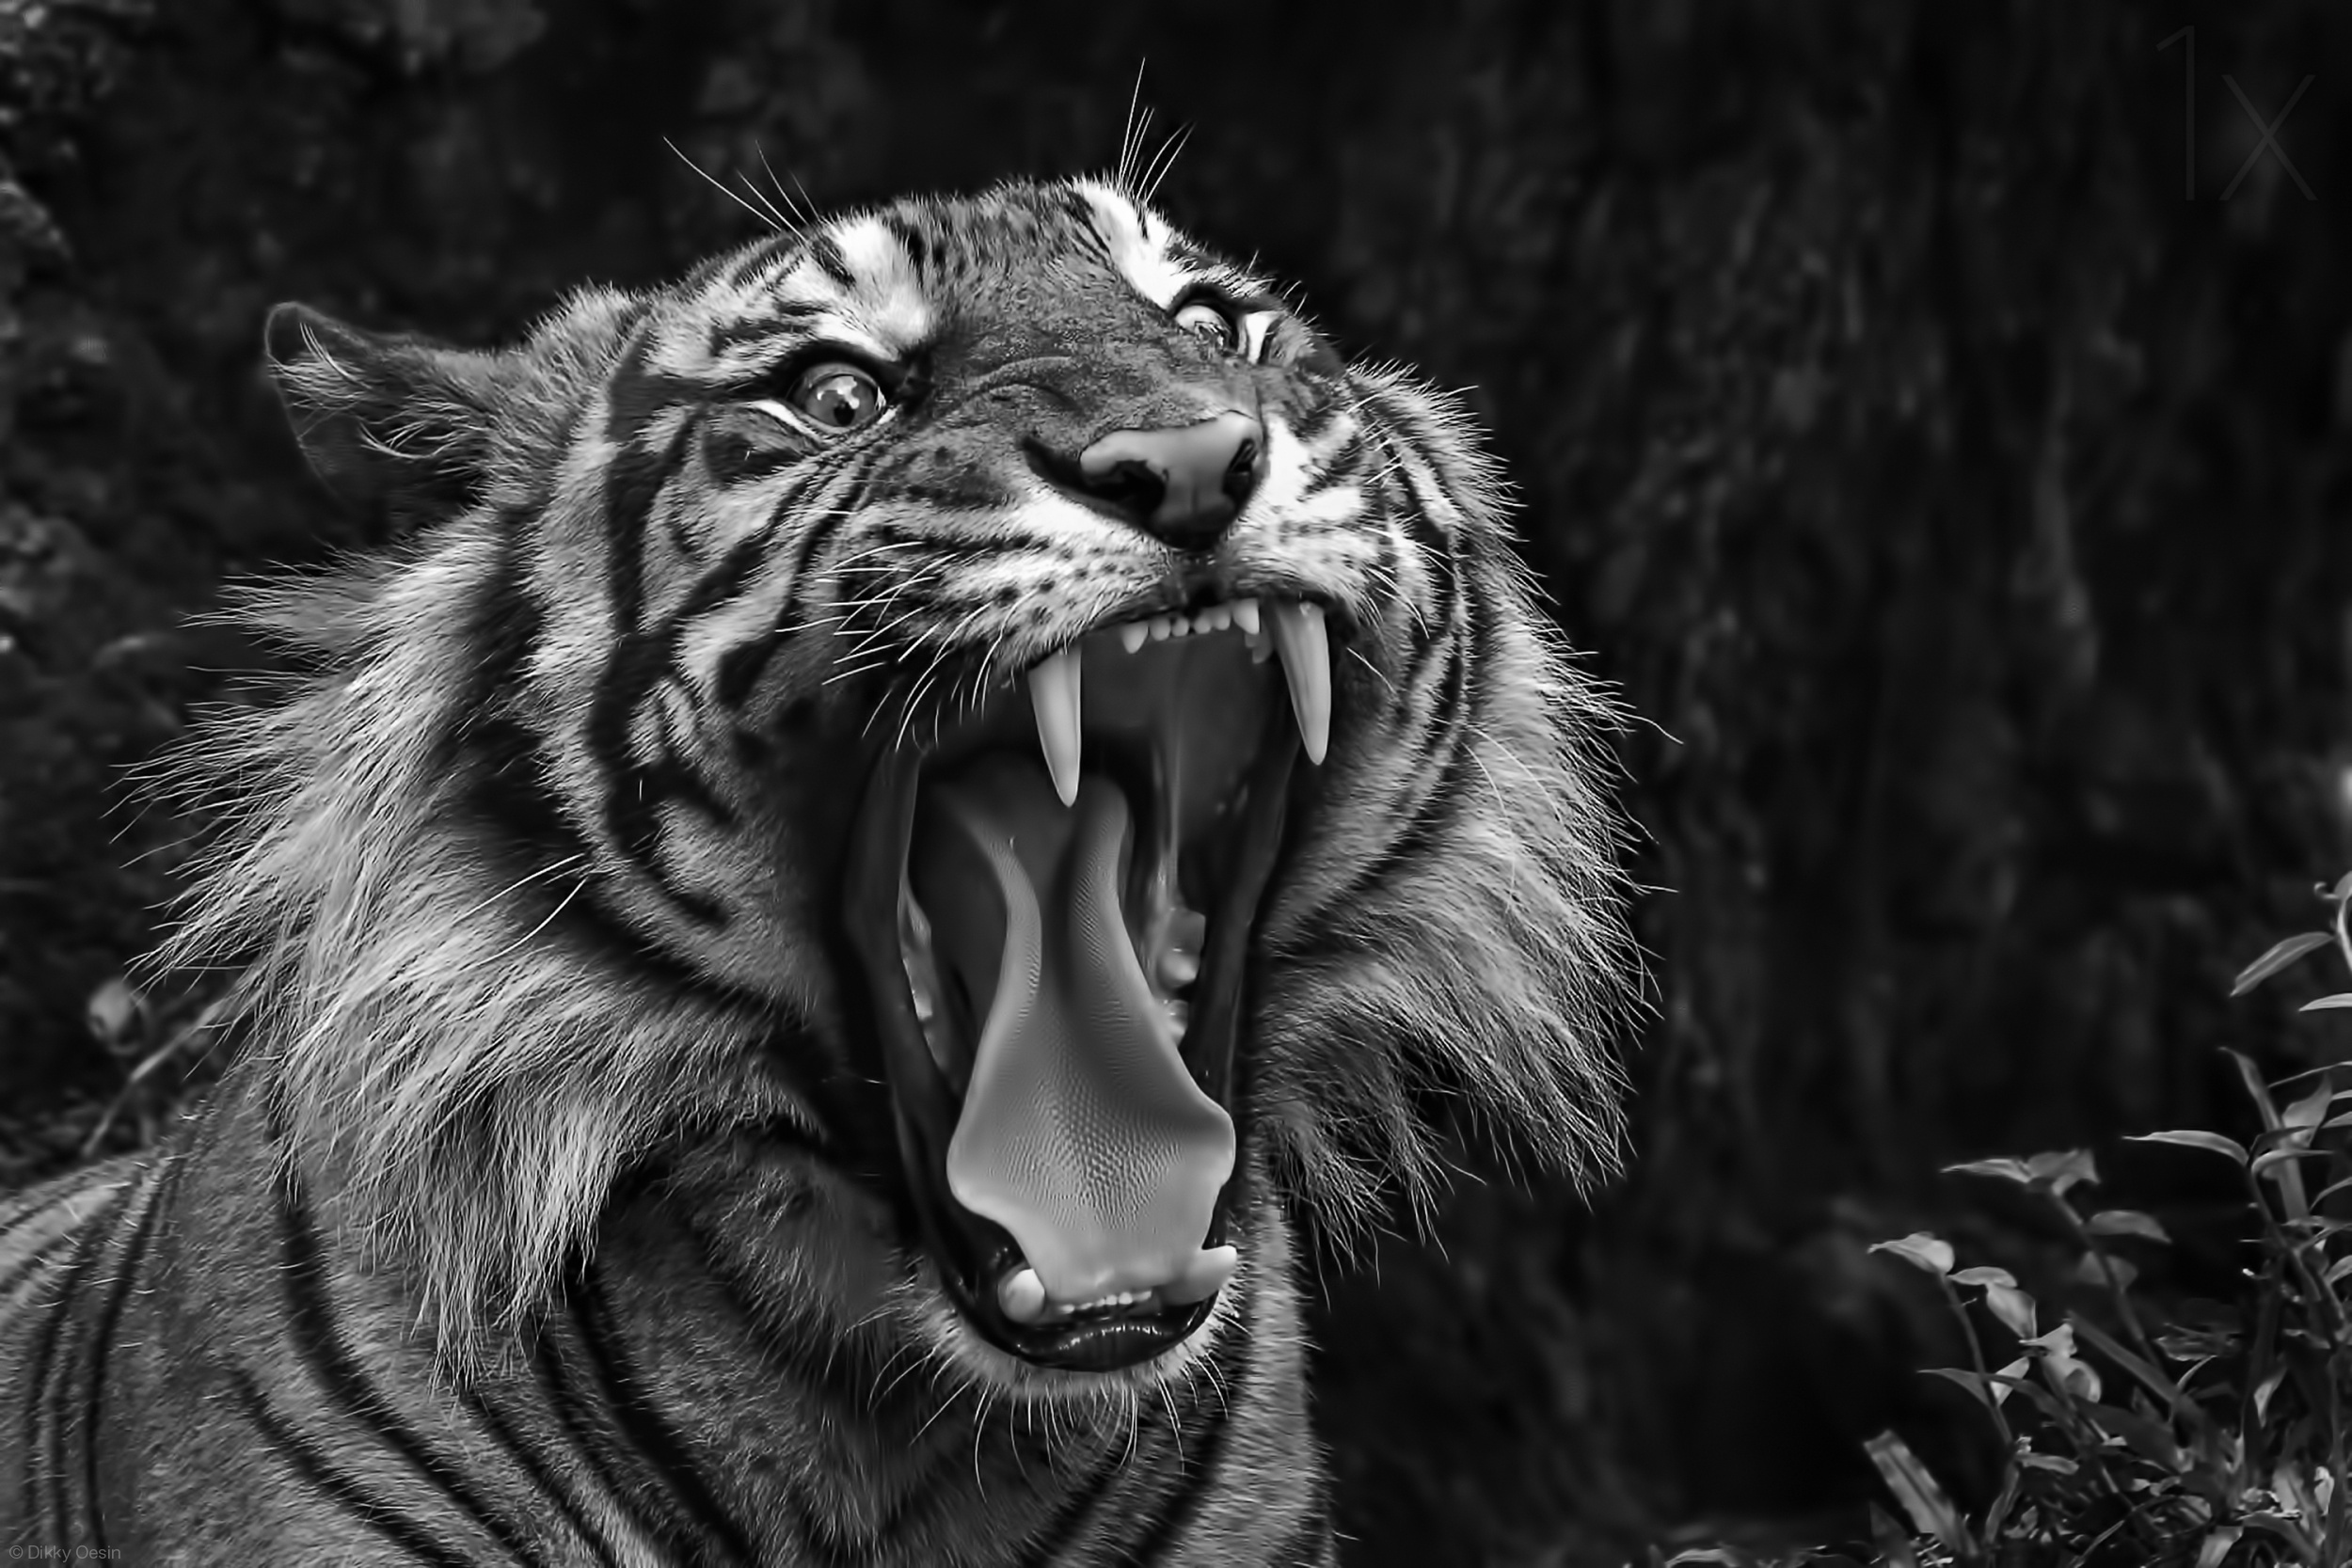tiger: (156, 150, 1661, 1531)
